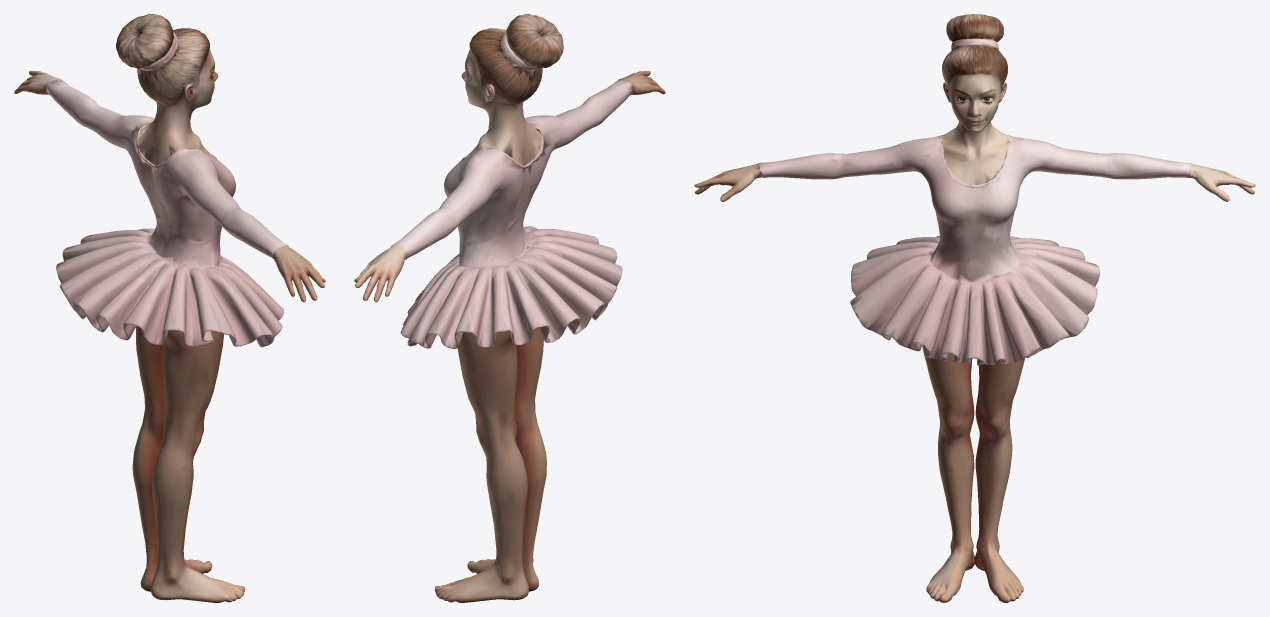
File: the-ballerina.glb
3 renders of one model, left to right at view 1: azimuth 30°, elevation 25°; view 2: azimuth 150°, elevation 25°; view 3: azimuth 270°, elevation 25°, orthographic. The views are drawn at different scales.
Parts seen in each view (by area): view 1: the-ballerina; view 2: the-ballerina; view 3: the-ballerina.
Part boxes in pixels (box(x1,y1,x2,y2)): the-ballerina: box(14, 14, 325, 602); the-ballerina: box(354, 14, 665, 602); the-ballerina: box(694, 14, 1255, 602).
Size of the model in its own units: 0.3263 by 0.9788 by 0.8962.
1 material, 1 textured.
